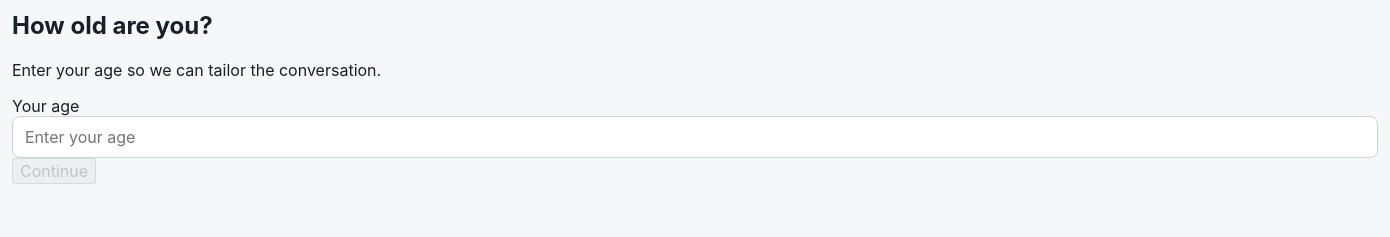
Test: clears the error message when the age input is modified
Step 1. Type "20" into the number field labelled "Your age" → (695, 137), box [12,116,1378,158]
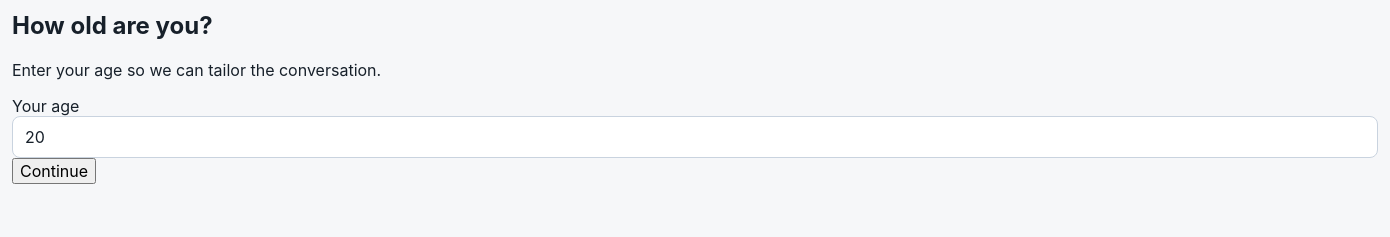
Step 2. Click the button "Continue" → (54, 171), box [12,158,96,184]
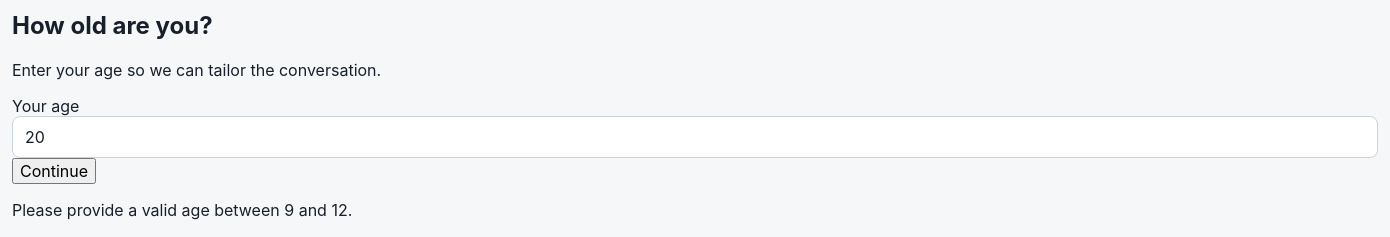
Check: the text "Please provide a valid age between 9 and 12." is shown, box [12,200,352,220]
Step 3. Replace the text in the number field labelled "Your age" with "10" → (695, 137), box [12,116,1378,158]
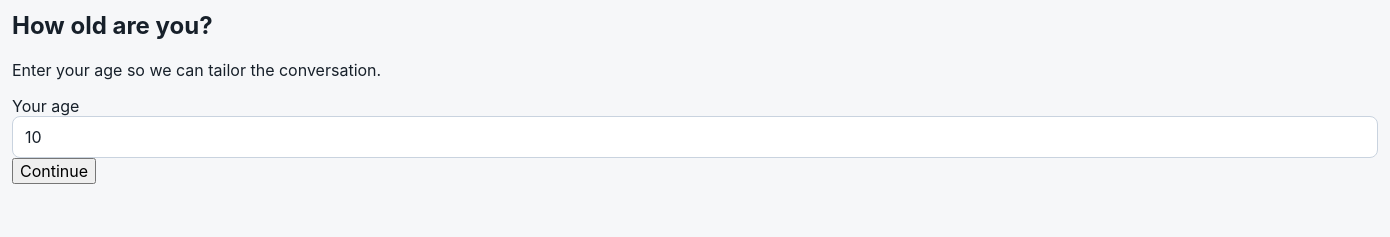
Check: the text "Please provide a valid age between 9 and 12." is gone
